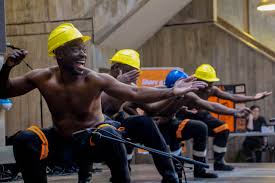Person_wearing_helmet: (38, 18, 92, 58)
